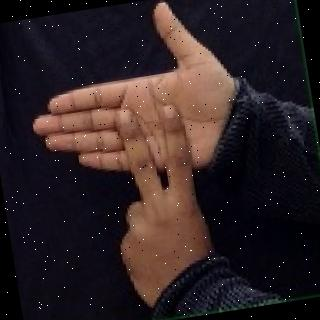N: (14, 0, 272, 320)
